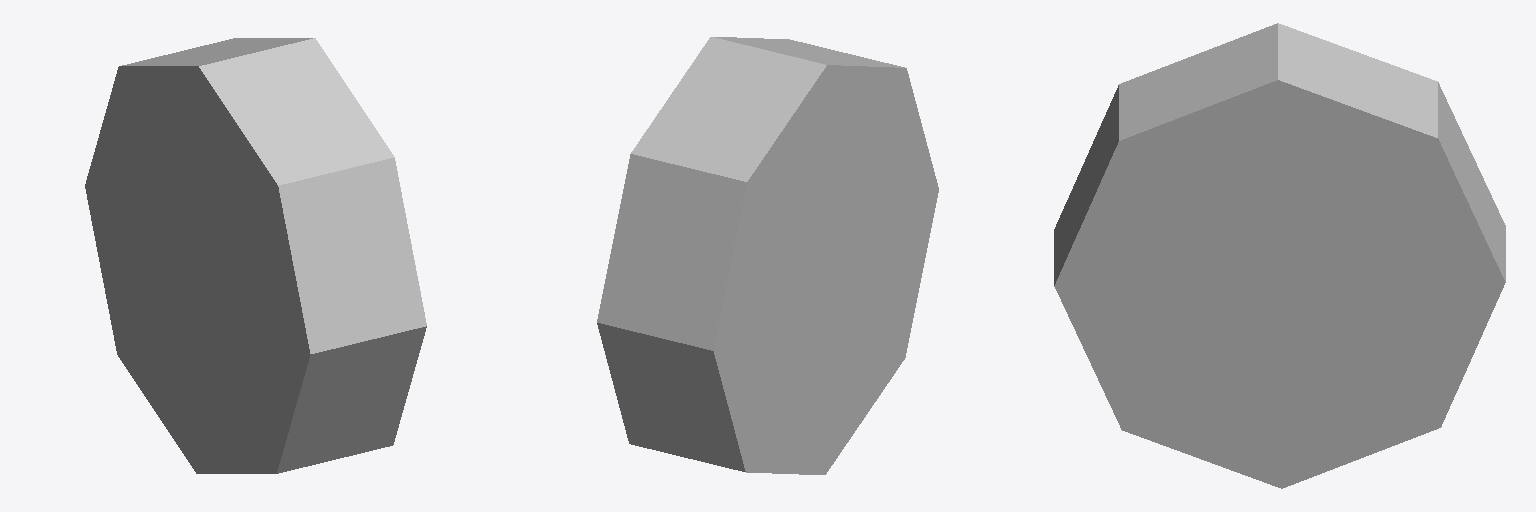
The model's file is tire.obj.
3 views of the same model, side by side, from view 1: azimuth 30°, elevation 25°; view 2: azimuth 150°, elevation 25°; view 3: azimuth 270°, elevation 25° (orthographic).
Parts seen in each view (by area): view 1: Car; view 2: Car; view 3: Car.
Part boxes in pixels (x1,y1,x2,y2): Car: (85, 38, 426, 473); Car: (597, 37, 938, 474); Car: (1054, 23, 1505, 488).
Size of the model in its own units: 0.2736 by 0.9172 by 0.9172.